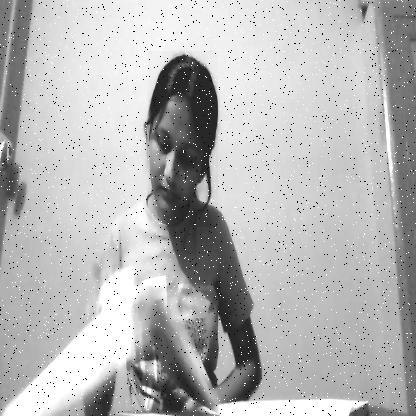Normal: (148, 51, 218, 227)
